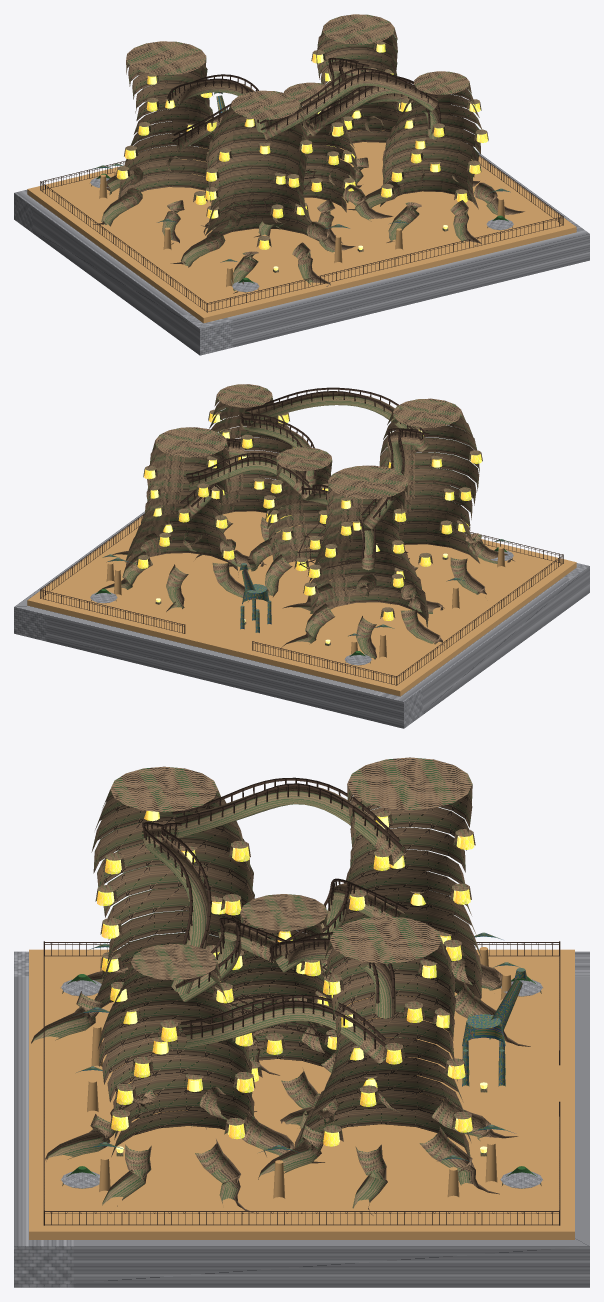
File: ultra_lm_11_crazy_house.glb
3 renders of one model, top to bottom at view 1: azimuth 30°, elevation 25°; view 2: azimuth 150°, elevation 25°; view 3: azimuth 270°, elevation 25°, orthographic. The views are drawn at different scales.
Visible parts, largest first — view 1: Organic_TreeStump_Towers_And_Roots, Surrealist_Grotto_Domes_And_Steps, FoundationSkirt_Minus3m, Spiderweb_Trellis_And_VineRailings, Freeform_Cave_StainedGlass_Windows, Cave_Interior_Night_Glow; view 2: Organic_TreeStump_Towers_And_Roots, Surrealist_Grotto_Domes_And_Steps, FoundationSkirt_Minus3m, Spiderweb_Trellis_And_VineRailings, Freeform_Cave_StainedGlass_Windows, Giraffe_And_GiantMushrooms, Cave_Interior_Night_Glow; view 3: Organic_TreeStump_Towers_And_Roots, Surrealist_Grotto_Domes_And_Steps, FoundationSkirt_Minus3m, Spiderweb_Trellis_And_VineRailings, Freeform_Cave_StainedGlass_Windows, Giraffe_And_GiantMushrooms, Cave_Interior_Night_Glow.
Part boxes in pixels (x1=…): Organic_TreeStump_Towers_And_Roots: x1=91, y1=14, x2=524, y2=293; Surrealist_Grotto_Domes_And_Steps: x1=27, y1=130, x2=576, y2=323; FoundationSkirt_Minus3m: x1=14, y1=118, x2=589, y2=355; Spiderweb_Trellis_And_VineRailings: x1=40, y1=58, x2=563, y2=312; Freeform_Cave_StainedGlass_Windows: x1=116, y1=44, x2=487, y2=249; Cave_Interior_Night_Glow: x1=121, y1=44, x2=483, y2=270; Organic_TreeStump_Towers_And_Roots: x1=91, y1=384, x2=514, y2=665; Surrealist_Grotto_Domes_And_Steps: x1=27, y1=511, x2=576, y2=696; FoundationSkirt_Minus3m: x1=14, y1=511, x2=589, y2=728; Spiderweb_Trellis_And_VineRailings: x1=40, y1=387, x2=563, y2=685; Freeform_Cave_StainedGlass_Windows: x1=137, y1=413, x2=481, y2=620; Giraffe_And_GiantMushrooms: x1=102, y1=539, x2=510, y2=636; Cave_Interior_Night_Glow: x1=142, y1=414, x2=476, y2=643; Organic_TreeStump_Towers_And_Roots: x1=31, y1=757, x2=541, y2=1215; Surrealist_Grotto_Domes_And_Steps: x1=29, y1=947, x2=574, y2=1239; FoundationSkirt_Minus3m: x1=14, y1=951, x2=589, y2=1287; Spiderweb_Trellis_And_VineRailings: x1=43, y1=777, x2=560, y2=1225; Freeform_Cave_StainedGlass_Windows: x1=97, y1=811, x2=474, y2=1146; Giraffe_And_GiantMushrooms: x1=74, y1=932, x2=527, y2=1161; Cave_Interior_Night_Glow: x1=102, y1=811, x2=487, y2=1152.
Bounding box in the file's own units: 46 × 21.77 × 38.
8 materials, 4 textured.
